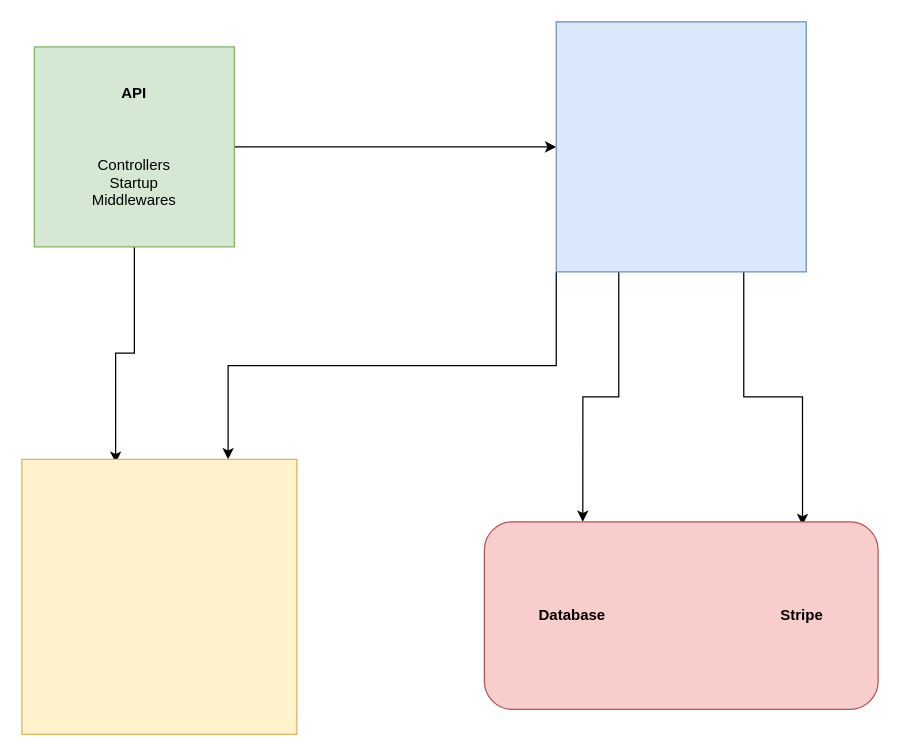
Image size: 900x756. Some labels were removed from this diagram. The shapes that lost their labels are listed below. From the top down, each one's centre as x and y in pixels, then its label:
At pixel 680 146: "Infrastructure Repository DbContext Services".
At pixel 159 596: "Core Entites Interfaces".
